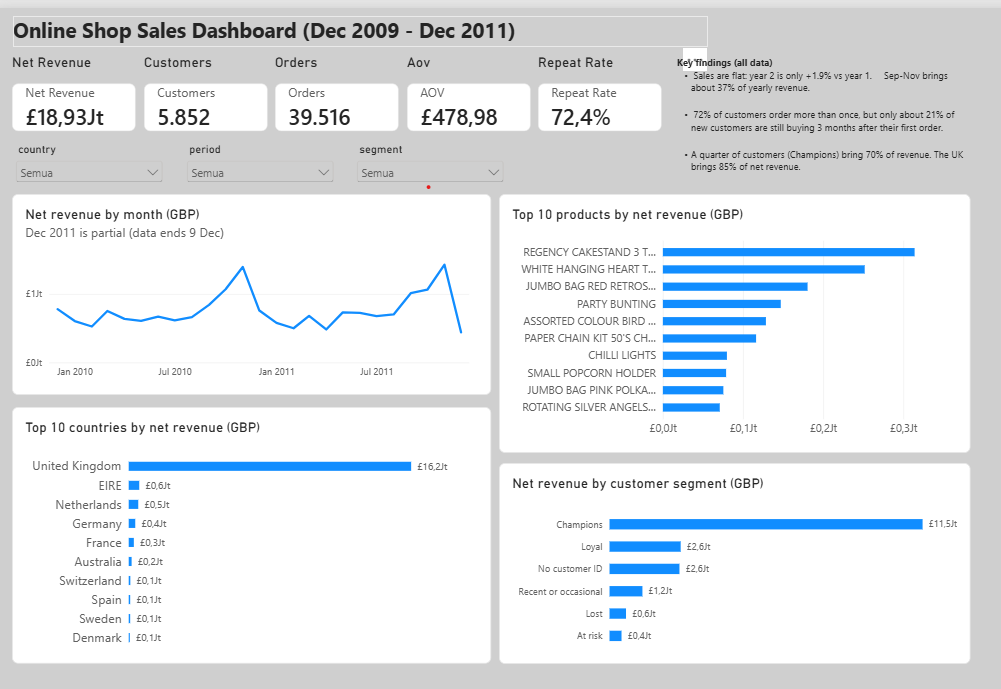

The dashboard page shown, as its layout file describes it:
{"tool":"powerbi","page":{"name":"Halaman 1","canvas":[1920,1080],"ordinal":0},"visuals":[{"type":"cardVisual","title":"Repeat Rate","fields":{"Data":["lines.Repeat Rate"]},"box":[700,60,160,100],"z":0},{"type":"cardVisual","title":"Aov","fields":{"Data":["lines.AOV"]},"box":[530,60,160,100],"z":1000},{"type":"cardVisual","title":"Net Revenue","fields":{"Data":["lines.Net Revenue"]},"box":[20,60,160,100],"z":2000},{"type":"cardVisual","title":"Orders","fields":{"Data":["lines.Orders Label"]},"box":[360,60,160,100],"z":3000},{"type":"lineChart","title":"Net revenue by month (GBP)","fields":{"Category":["lines.month"],"Y":["lines.Net Revenue"]},"box":[20,240,620,260],"z":4000},{"type":"clusteredBarChart","title":"Top 10 countries by net revenue (GBP)","fields":{"Category":["lines.country"],"Y":["lines.Net Revenue"]},"box":[20,516.7,620,331.7],"z":5000},{"type":"clusteredBarChart","title":"Top 10 products by net revenue (GBP)","fields":{"Category":["lines.description"],"Y":["lines.Net Revenue"]},"box":[650,240,610,335],"z":6000},{"type":"textbox","box":[20.4,10,900,40],"z":7000},{"type":"textbox","box":[880,60,380,170],"z":8000},{"type":"cardVisual","title":"Customers","fields":{"Data":["lines.Customers"]},"box":[190,60,160,100],"z":9000},{"type":"clusteredBarChart","title":"Net revenue by customer segment (GBP)","fields":{"Category":["lines.segment"],"Y":["lines.Net Revenue"]},"box":[650,588.3,610,260],"z":10000},{"type":"slicer","fields":{"Values":["lines.period"]},"box":[240,175,200,50],"z":11000},{"type":"slicer","fields":{"Values":["lines.country"]},"box":[20,175,200,50],"z":12000},{"type":"slicer","fields":{"Values":["lines.segment"]},"box":[460,175,200,50],"z":13000}]}

Visuals, with their boxes on the page's 1920x1080 design canvas (x1, y1, x2, y2). These are canvas units, not pixel positions in the 1001x689 screenshot, which may show the page scaled, cropped or inside an application window:
"Repeat Rate" cardVisual: (x1=700, y1=60, x2=860, y2=160)
"Aov" cardVisual: (x1=530, y1=60, x2=690, y2=160)
"Net Revenue" cardVisual: (x1=20, y1=60, x2=180, y2=160)
"Orders" cardVisual: (x1=360, y1=60, x2=520, y2=160)
"Net revenue by month (GBP)" lineChart: (x1=20, y1=240, x2=640, y2=500)
"Top 10 countries by net revenue (GBP)" clusteredBarChart: (x1=20, y1=517, x2=640, y2=848)
"Top 10 products by net revenue (GBP)" clusteredBarChart: (x1=650, y1=240, x2=1260, y2=575)
textbox: (x1=20, y1=10, x2=920, y2=50)
textbox: (x1=880, y1=60, x2=1260, y2=230)
"Customers" cardVisual: (x1=190, y1=60, x2=350, y2=160)
"Net revenue by customer segment (GBP)" clusteredBarChart: (x1=650, y1=588, x2=1260, y2=848)
slicer - lines.period: (x1=240, y1=175, x2=440, y2=225)
slicer - lines.country: (x1=20, y1=175, x2=220, y2=225)
slicer - lines.segment: (x1=460, y1=175, x2=660, y2=225)
